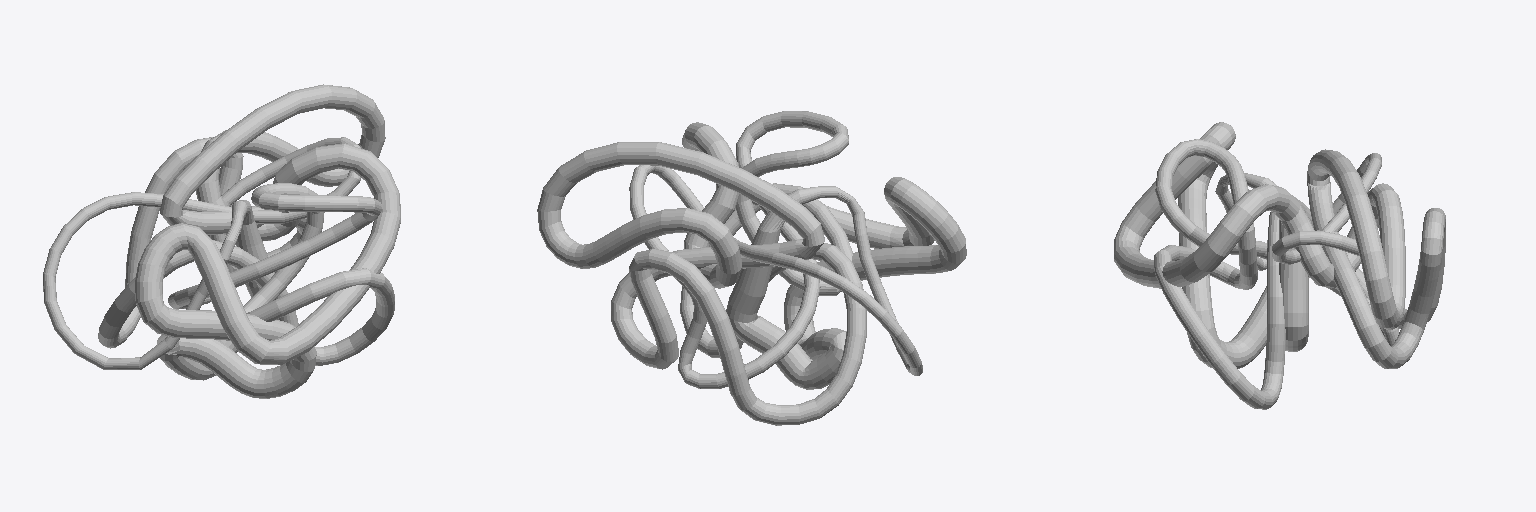
Rendered from spaceRand_03.obj.
3 renders of one model, left to right at view 1: azimuth 30°, elevation 25°; view 2: azimuth 150°, elevation 25°; view 3: azimuth 270°, elevation 25°, orthographic.
Parts seen in each view (by area): view 1: spaceRand_03 randSpace_grp; view 2: spaceRand_03 randSpace_grp; view 3: spaceRand_03 randSpace_grp.
Boxes of the visible parts, x1,y1,x2,y2 form: spaceRand_03 randSpace_grp: [43, 84, 400, 398]; spaceRand_03 randSpace_grp: [537, 111, 966, 425]; spaceRand_03 randSpace_grp: [1114, 122, 1445, 409].
Bounding box in the file's own units: 1715 × 1107 × 1385.